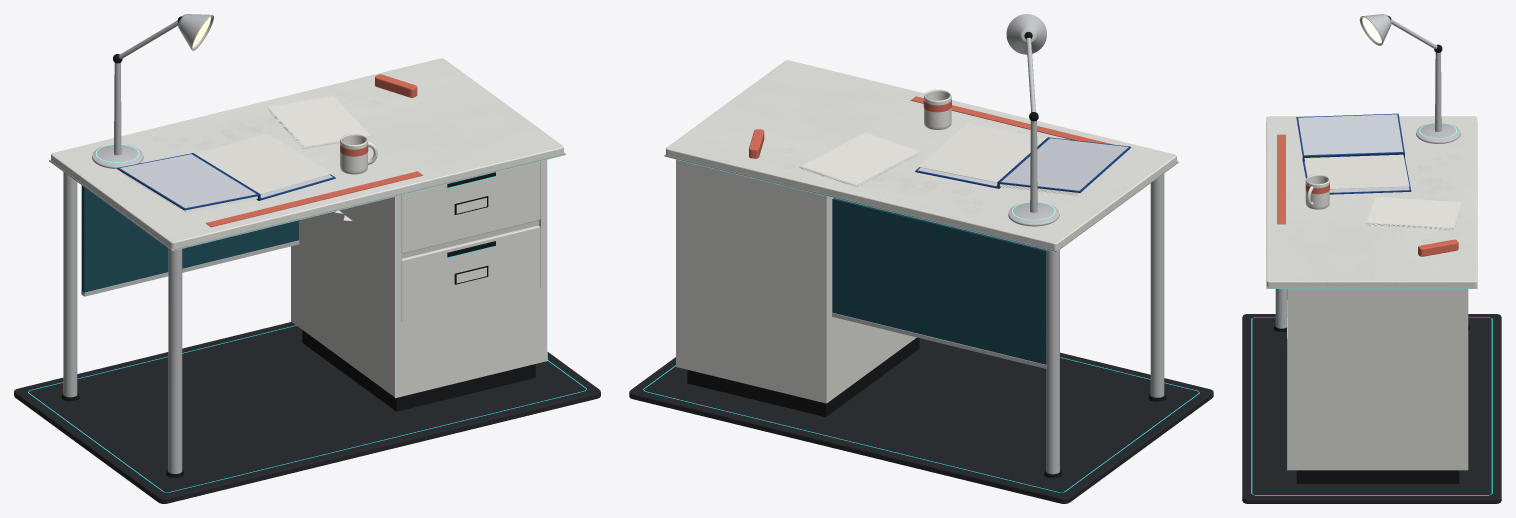
File: obj-mesa-recepcao-12b.glb
The picture shows the model from 3 angles, left to right: view 1: azimuth 30°, elevation 25°; view 2: azimuth 150°, elevation 25°; view 3: azimuth 270°, elevation 25°; orthographic projection. The views are drawn at different scales.
Visible parts, largest first — view 1: base_peca, mesa_tampo, gaveteiro_lateral_esq, gaveteiro_frente_baixo, gaveta_material_frente, mesa_painel_pudor, gaveta_recepcao_frente, mesa, pasta_miolo, pasta_capa_forro, gaveteiro_rodape, monte_folhas_area_texto (+10 smaller); view 2: base_peca, mesa_tampo, gaveteiro_traseira, mesa_painel_pudor, mesa, gaveteiro_lateral_esq, pasta_miolo, pasta_capa_forro, gaveteiro_rodape, monte_folhas_area_texto, gaveteiro_lateral_dir, luminaria_cupula (+7 smaller); view 3: gaveteiro_lateral_dir, mesa_tampo, base_peca, pasta_capa_forro, pasta_miolo, gaveteiro_rodape, monte_folhas_area_texto, base_peca_linha, mesa_risca_coral, mesa_tampo_borda, luminaria_base, caneca_corpo (+7 smaller).
Part boxes in pixels (bbox=[...]): base_peca: bbox=[14, 322, 600, 503]; mesa_tampo: bbox=[51, 58, 563, 248]; gaveteiro_lateral_esq: bbox=[291, 195, 401, 397]; gaveteiro_frente_baixo: bbox=[401, 288, 540, 396]; gaveta_material_frente: bbox=[401, 225, 540, 322]; mesa_painel_pudor: bbox=[81, 185, 298, 292]; gaveta_recepcao_frente: bbox=[401, 161, 540, 253]; mesa: bbox=[61, 172, 184, 477]; pasta_miolo: bbox=[196, 133, 332, 194]; pasta_capa_forro: bbox=[120, 154, 256, 208]; gaveteiro_rodape: bbox=[302, 330, 535, 411]; monte_folhas_area_texto: bbox=[269, 96, 369, 146]; base_peca: bbox=[629, 338, 1213, 503]; mesa_tampo: bbox=[666, 60, 1176, 249]; gaveteiro_traseira: bbox=[682, 161, 820, 401]; mesa_painel_pudor: bbox=[832, 198, 1046, 364]; mesa: bbox=[1044, 173, 1166, 478]; gaveteiro_lateral_esq: bbox=[820, 195, 916, 403]; pasta_miolo: bbox=[918, 123, 1045, 182]; pasta_capa_forro: bbox=[1001, 138, 1128, 190]; gaveteiro_rodape: bbox=[687, 337, 919, 417]; monte_folhas_area_texto: bbox=[803, 133, 918, 183]; gaveteiro_lateral_dir: bbox=[676, 159, 681, 368]; luminaria_cupula: bbox=[1006, 14, 1046, 54]; gaveteiro_lateral_dir: bbox=[1287, 289, 1468, 470]; mesa_tampo: bbox=[1266, 116, 1477, 287]; base_peca: bbox=[1242, 314, 1501, 503]; pasta_capa_forro: bbox=[1298, 114, 1402, 155]; pasta_miolo: bbox=[1304, 154, 1409, 189]; gaveteiro_rodape: bbox=[1296, 470, 1459, 483]; monte_folhas_area_texto: bbox=[1367, 197, 1461, 227]; base_peca_linha: bbox=[1251, 317, 1492, 495]; mesa_risca_coral: bbox=[1277, 134, 1285, 224]; mesa_tampo_borda: bbox=[1266, 122, 1477, 288]; luminaria_base: bbox=[1416, 123, 1460, 143]; caneca_corpo: bbox=[1305, 174, 1329, 209].
Bounding box in the file's own units: 1.46 × 1.29 × 0.86.
Materials: 28 (2 with a texture image).
